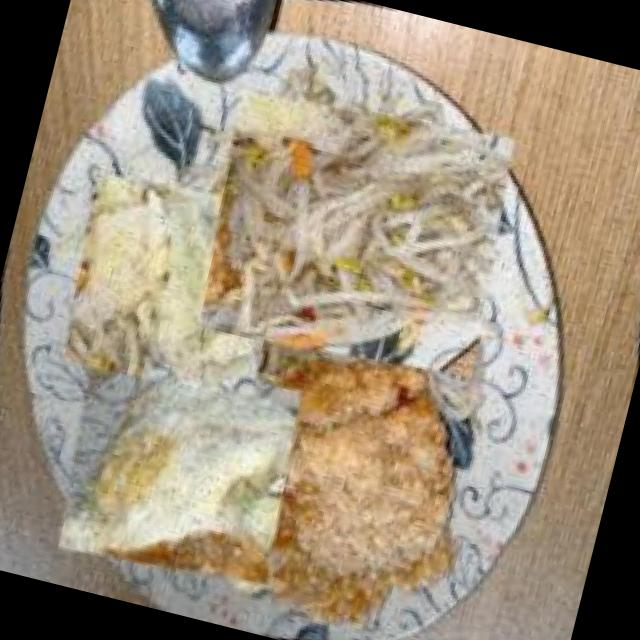chinese_cabbage: (25, 138, 322, 434)
fried_chicken: (162, 290, 536, 640)
fried_eggs: (21, 311, 338, 628)
mung_bean_sprouts: (154, 30, 558, 434)
